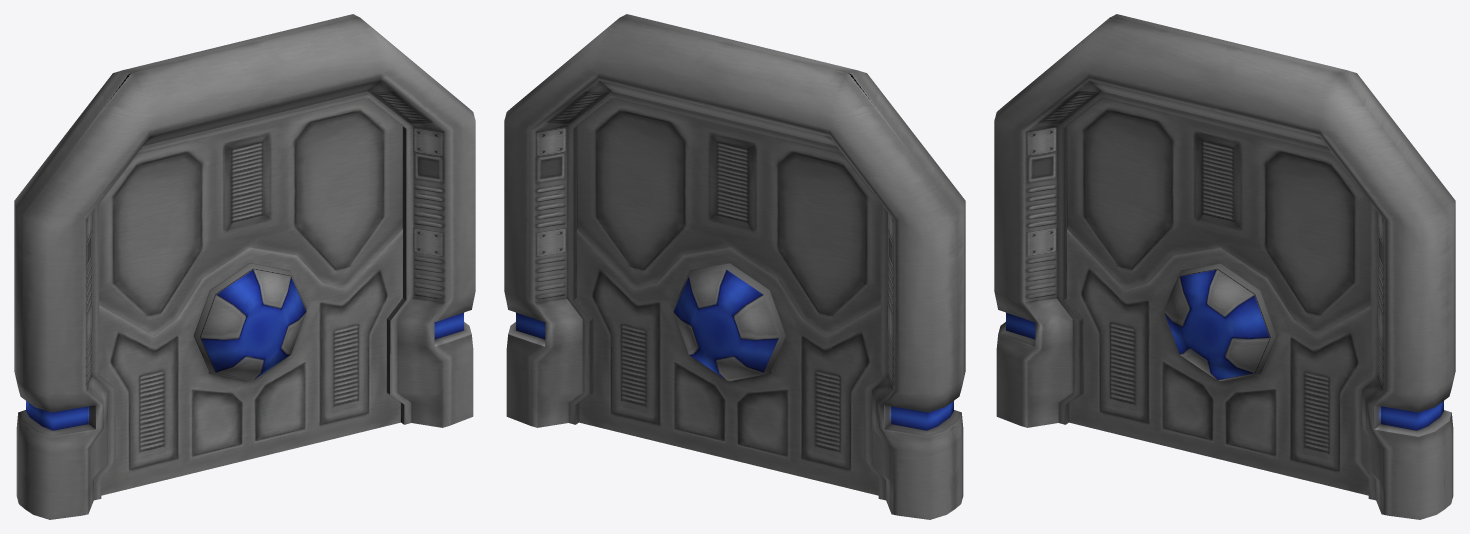
Rendered from Door.fbx.
3 views of the same model, side by side, from view 1: azimuth 30°, elevation 25°; view 2: azimuth 150°, elevation 25°; view 3: azimuth 330°, elevation 25° (orthographic).
Visible parts, largest first — view 1: Door__0; view 2: Door__0; view 3: Door__0.
Boxes of the visible parts, x1,y1,x2,y2 form: Door__0: (14,14,475,519); Door__0: (504,14,965,519); Door__0: (994,14,1455,519).
Bounding box in the file's own units: 5.41 × 4.78 × 0.8648.
1 material, 1 textured.
